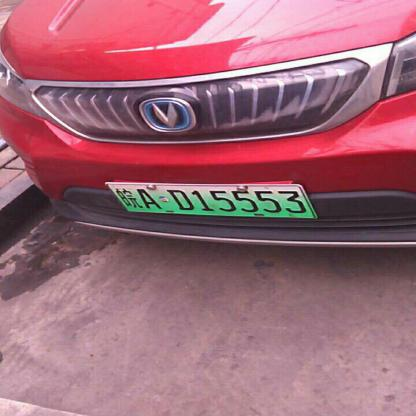lp: (107, 183, 314, 216)
